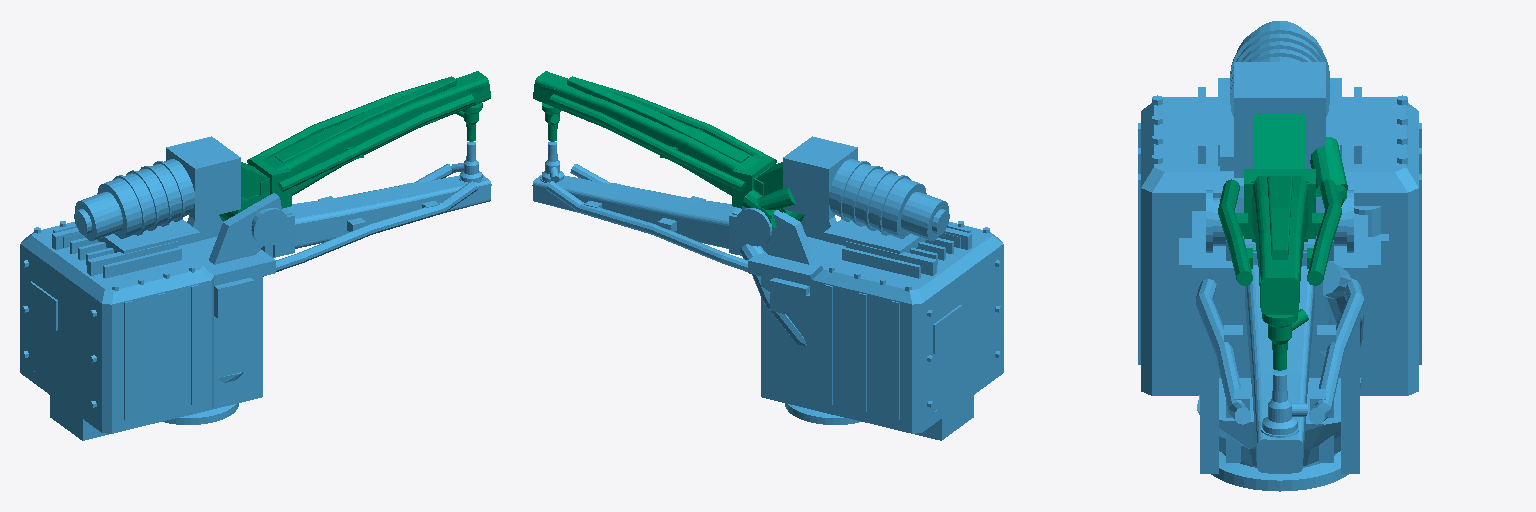
robot.urdf — weld_gun_x1:
<?xml version="1.0"?>
<!--
  Weld Gun X1: サーボスポットガン (X ガン / シザー式) — botrail-catalog-builder の
  weld-line-requests.md #2 に基づく自作アセット (CC0-1.0)。

  **これは特定メーカー製品の複製ではない。** ロボット用スポットガンは受注設計で
  外形図を公開しているメーカーが無く (OBARA / NIMAK / Milco / ARO / Electroweld を確認)、
  代わりに **公開規格と、型番まで特定した実機の公表値**に寸法を合わせた独自著作。
  項目ごとに参照元が違うので、どの値をどこから採ったかを個別に示す:

  - **のど深さ 400 mm** = **Electroweld X 型ガン (SP-20IT-X / SP-40IT-X / SP-50IT-X)**
    の公表値 "Standard Throat Depth is 16 inch or 400mm (Customizable to 12 / 14 / 16)"
    https://www.electroweld.com/products/electroweld-x-type-portable-spot-welding-gun-sp-40it-x
    ただし同機は**可搬式** (手持ち / 吊り下げ) で、ロボット搭載のサーボガンである本
    アセットとはクラスが違う。**引用しているのはのど深さの値だけ**で、駆動方式・
    トランス・質量は下記の別ソースに合わせてある
  - **電極キャップ** = **ISO 5821 Type F, 16 x 20** (規格表: d1=16, l1=20, R1=40,
    テーパ 1:10, Fmax=4 kN)。加圧力 4.0 kN はこの Fmax に一致させてある
  - **トランス** = MFDC 160 kVA / 500 V 1000 Hz 級 (**OBARA DB3-160** の公表値)
  - **質量・重心** = FANUC R-2000iC/165F の**手首許容値 (J5 940 Nm / 89 kg·m^2、
    J6 490 Nm / 46 kg·m^2、可搬 165 kg)** に収まることを確認済み

  補足: ロボット用 X ガンでは**アーム長 (のど深さ) が型番の属性ではなく、用途ごとに
  選ぶ差し替えモジュール**になっている (ARO 3G のカタログが "Plug in Arms" /
  Mobile Arm・Fixed Arm Holder を独立モジュールとして扱い、銅アーム版とアルミ
  アーム版 3GZ を用意していることを確認)。ロボットガン側で「のど深さ 400 mm の型番」を
  名指しできないのはこのためで、可搬式ガンの Electroweld を値の出典に採ったのはその回避策。

  visual: tools/generate_meshes.py が生成する ../meshes/*.stl (手続き的著作、
          寸法定数はスクリプト冒頭の GEOMETRY ブロックに集約)
  collision: URDF プリミティブのみ。**のど (throat) の開口を保つのが目的**で、
          builder はプリミティブを素通しするため VHACD で開口が塞がれない。
          テーパーしたアームは 2 本の円柱で近似し、先端側を細くして開口を稼ぐ。
          可撓物 (ホース・キックレスケーブル) と機体内部のテールには collision 無し

  慣例 (botrail カタログ):
  - Z-up / メートル。root リンク mount = フランジ接触面 (+Z がツール内側)。
    attach_tool はツールを root で溶接する
  - tcp = 固定電極先端 (body 側の固定リンク)
  - electrode_joint は正方向 = 開 (q=0 で電極間 5 mm、q=0.26 rad で先端 112 mm)
-->
<robot name="weld_gun_x1">
  <link name="mount"/>

  <link name="body">
    <visual>
      <geometry><mesh filename="../meshes/body.stl"/></geometry>
    </visual>

    <!-- フランジ板 + 取付ブラケット (溶接構造) -->
    <collision>
      <origin xyz="0.010 0 0.145"/>
      <geometry><box size="0.215 0.195 0.290"/></geometry>
    </collision>
    <!-- MFDC トランス (冷却フィン・端子箱を含む包絡) -->
    <collision>
      <origin xyz="-0.140 0 0.175"/>
      <geometry><box size="0.250 0.320 0.345"/></geometry>
    </collision>
    <!-- サーボ + ボールねじ (可動テールと干渉しないよう前端を -0.02 で止める) -->
    <collision>
      <origin xyz="-0.120 0 0.402"/>
      <geometry><box size="0.200 0.140 0.135"/></geometry>
    </collision>
    <!-- ピボットクレビス -->
    <collision>
      <origin xyz="0.115 0 0.335" rpy="1.5707963268 0 0"/>
      <geometry><cylinder radius="0.038" length="0.160"/></geometry>
    </collision>
    <!-- 固定アーム 根元側 / 先端側 (のど下面。テーパーに合わせて 2 段) -->
    <collision>
      <origin xyz="0.260 0 0.284" rpy="0 1.6072 0"/>
      <geometry><cylinder radius="0.036" length="0.220"/></geometry>
    </collision>
    <collision>
      <origin xyz="0.469 0 0.276" rpy="0 1.6075 0"/>
      <geometry><cylinder radius="0.026" length="0.218"/></geometry>
    </collision>
    <!-- 固定電極 ホルダ + ISO 5821 F16x20 キャップ (上向き、先端 = tcp) -->
    <collision>
      <origin xyz="0.553 0 0.316"/>
      <geometry><cylinder radius="0.020" length="0.048"/></geometry>
    </collision>
    <collision>
      <origin xyz="0.553 0 0.350"/>
      <geometry><cylinder radius="0.009" length="0.020"/></geometry>
    </collision>

    <inertial>
      <!-- 溶接構造 + MFDC トランス + サーボ駆動。慣性は collision プリミティブ群を
           一様密度で質量 78 kg にスケールして算出 -->
      <origin xyz="-0.079 0 0.192"/>
      <mass value="78"/>
      <inertia ixx="1.50" ixy="0" ixz="0" iyy="2.22" iyz="0" izz="1.69"/>
    </inertial>
  </link>

  <link name="electrode_arm">
    <visual>
      <geometry><mesh filename="../meshes/electrode_arm.stl"/></geometry>
    </visual>

    <!-- 可動アーム 根元側 / 先端側。ピボット手前から始めて body クレビスと干渉させない -->
    <collision>
      <origin xyz="0.156 0 0.0735" rpy="0 1.3158 0"/>
      <geometry><cylinder radius="0.032" length="0.194"/></geometry>
    </collision>
    <collision>
      <origin xyz="0.355 0 0.113" rpy="0 1.4240 0"/>
      <geometry><cylinder radius="0.024" length="0.233"/></geometry>
    </collision>
    <!-- 可動電極 ホルダ + ISO 5821 F16x20 キャップ (下向き) -->
    <collision>
      <origin xyz="0.438 0 0.074"/>
      <geometry><cylinder radius="0.020" length="0.048"/></geometry>
    </collision>
    <collision>
      <origin xyz="0.438 0 0.040"/>
      <geometry><cylinder radius="0.009" length="0.020"/></geometry>
    </collision>

    <inertial>
      <origin xyz="0.248 0 0.088"/>
      <mass value="17"/>
      <inertia ixx="0.016" ixy="0" ixz="0" iyy="0.260" iyz="0" izz="0.251"/>
    </inertial>
  </link>

  <link name="tcp"/>

  <joint name="body_joint" type="fixed">
    <parent link="mount"/>
    <child link="body"/>
  </joint>

  <joint name="electrode_joint" type="revolute">
    <origin xyz="0.115 0 0.335"/>
    <parent link="body"/>
    <child link="electrode_arm"/>
    <axis xyz="0 -1 0"/>
    <!-- effort: 電極力 4.0 kN x 電極までの腕 0.438 m = 1.75 kNm。実機はボールねじ
         (テール腕 0.12 m) 経由なのでねじ推力 ~14.6 kN に相当 -->
    <limit lower="0" upper="0.26" effort="1800" velocity="1.2"/>
  </joint>

  <joint name="tcp_joint" type="fixed">
    <origin xyz="0.553 0 0.360"/>
    <parent link="body"/>
    <child link="tcp"/>
  </joint>
</robot>

--- Render facts (derived) ---
3 views of the same robot in one strip: view 1: azimuth 30°, elevation 25°; view 2: azimuth 150°, elevation 25°; view 3: azimuth 270°, elevation 25° (orthographic).
Model weld_gun_x1 with 4 links and 3 joints (1 revolute, 2 fixed), rooted at mount, posed every joint at zero.
Links seen in each view (by area): view 1: body, electrode_arm; view 2: body, electrode_arm; view 3: body, electrode_arm.
Link boxes in pixels (bbox=[...]): body: bbox=[20, 136, 491, 440]; electrode_arm: bbox=[219, 71, 490, 221]; body: bbox=[532, 136, 1003, 440]; electrode_arm: bbox=[533, 71, 804, 227]; body: bbox=[1138, 21, 1421, 491]; electrode_arm: bbox=[1218, 114, 1347, 370].
Size in the robot's own frame: 0.8387 by 0.306 by 0.4894 metres.
2 mesh visuals loaded from 2 distinct referenced files (2 binary STL).
